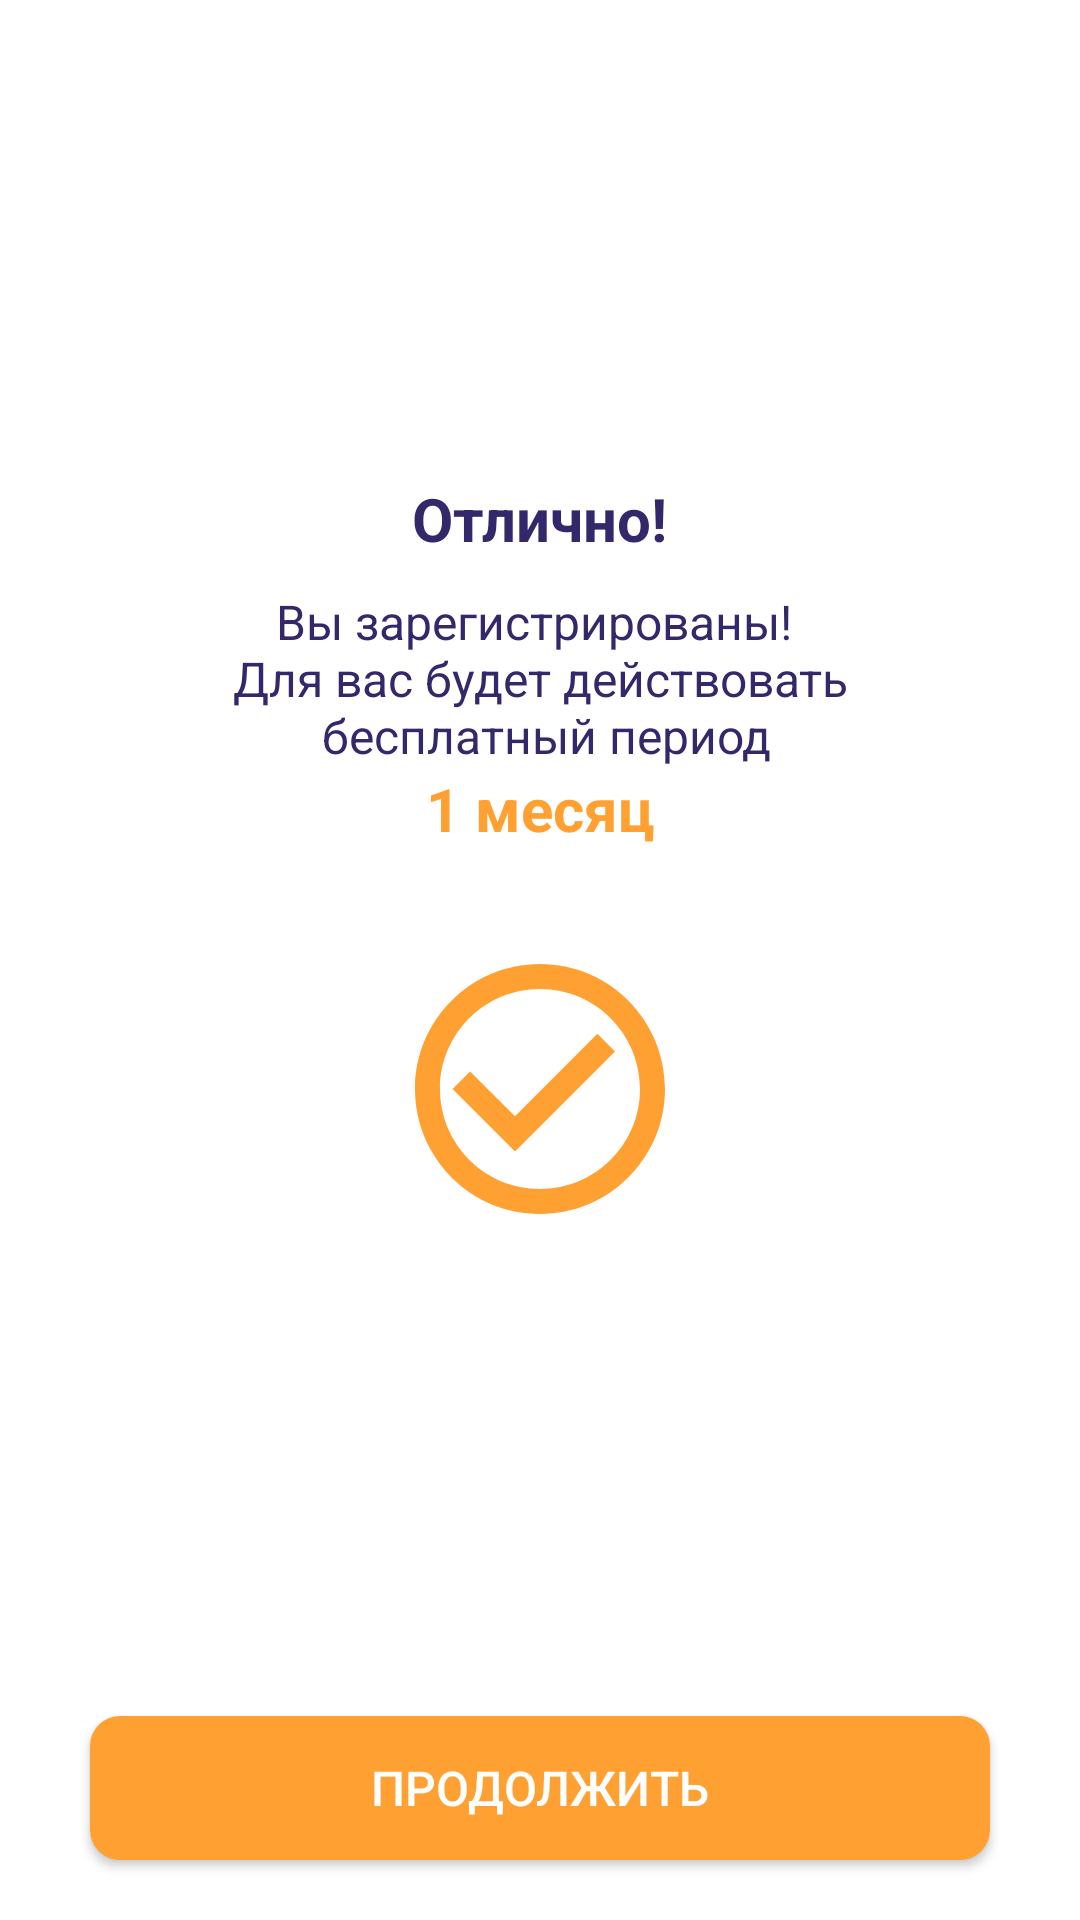

Icon click points for this 1080x1920 phone screenshot, format (x=x, y=y):
check mark: (x=540, y=1089)
